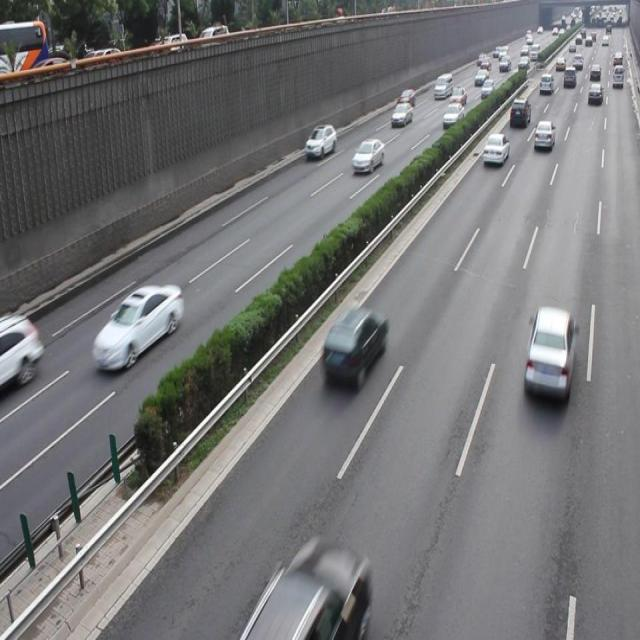car: (248, 532, 370, 640), (92, 280, 182, 369), (322, 304, 388, 386), (523, 304, 574, 398), (1, 310, 45, 388), (351, 136, 384, 174), (305, 123, 337, 159), (481, 132, 508, 164)
